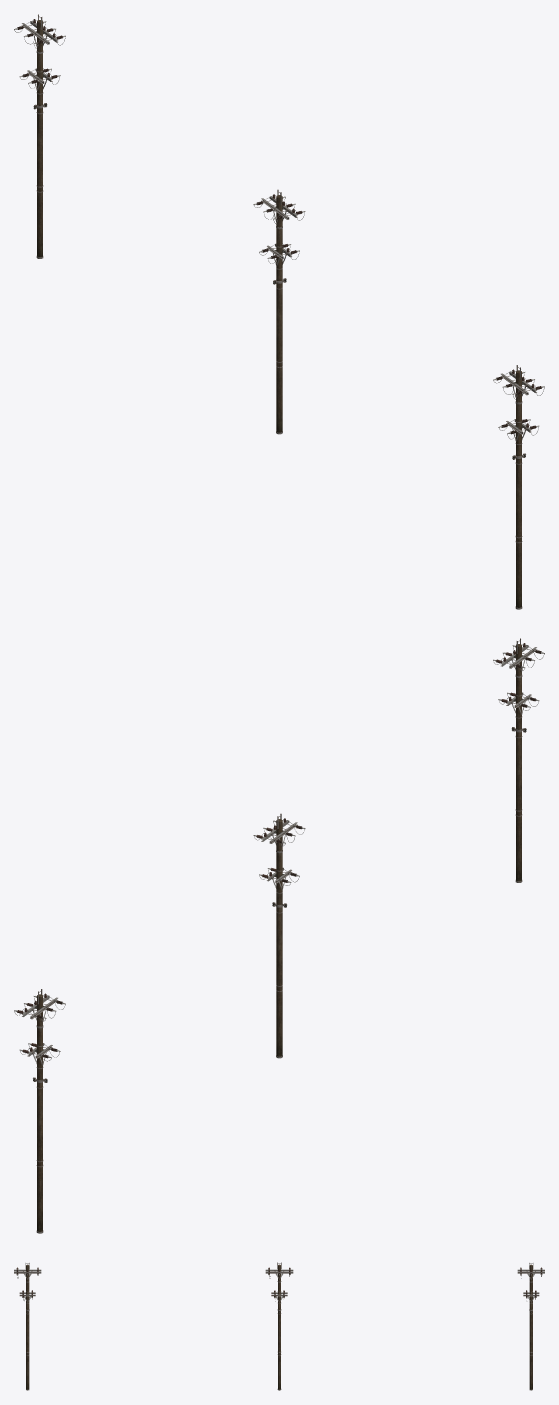
File: SM_PH_elektrik_diregi.fbx
The picture shows the model from 3 angles, top to bottom: view 1: azimuth 30°, elevation 25°; view 2: azimuth 150°, elevation 25°; view 3: azimuth 270°, elevation 25°; orthographic projection. The views are drawn at different scales.
Parts seen in each view (by area): view 1: SM_PH_elektrik_diregi; view 2: SM_PH_elektrik_diregi; view 3: SM_PH_elektrik_diregi.
Boxes of the visible parts, left/top/right/bottom form: SM_PH_elektrik_diregi: left=14, top=14, right=544, bottom=609; SM_PH_elektrik_diregi: left=14, top=638, right=544, bottom=1233; SM_PH_elektrik_diregi: left=14, top=1262, right=544, bottom=1390.
Size of the model in its own units: 0.8522 by 23.2 by 6.13.
2 materials, 2 textured.
